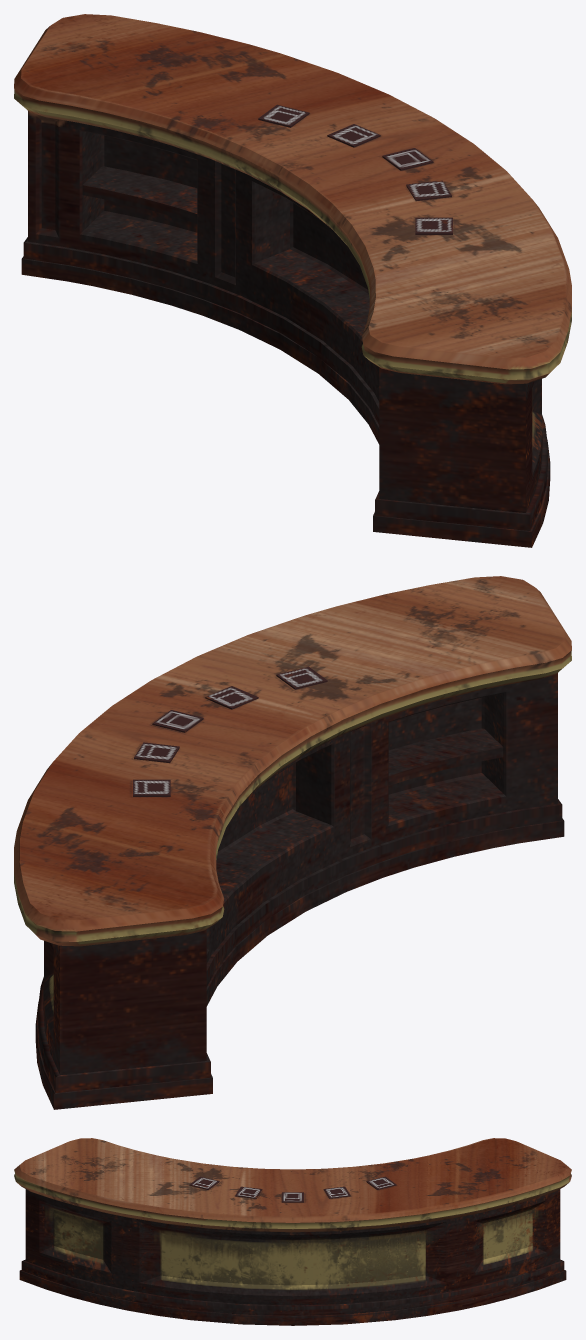
File: Asset_Desk_A_Low.fbx
3 views of the same model, one above another, from view 1: azimuth 30°, elevation 25°; view 2: azimuth 150°, elevation 25°; view 3: azimuth 270°, elevation 25° (orthographic). The views are drawn at different scales.
Visible parts, largest first — view 1: Asset_Desk_A_Low; view 2: Asset_Desk_A_Low; view 3: Asset_Desk_A_Low.
Boxes of the visible parts, <box> form: Asset_Desk_A_Low: <box>14,14,571,547</box>; Asset_Desk_A_Low: <box>14,576,571,1109</box>; Asset_Desk_A_Low: <box>14,1138,571,1325</box>.
Bounding box in the file's own units: 176 × 114 × 504.
1 material, 1 textured.
